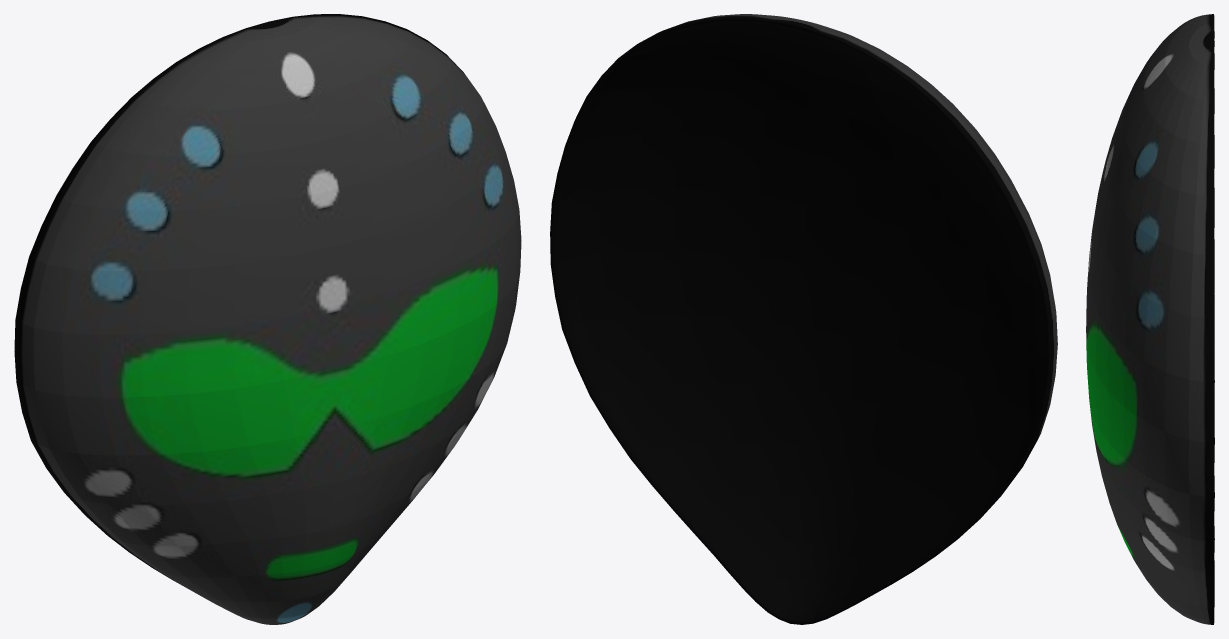
Rendered from mask.glb.
The picture shows the model from 3 angles, left to right: view 1: azimuth 30°, elevation 25°; view 2: azimuth 150°, elevation 25°; view 3: azimuth 270°, elevation 25°; orthographic projection. The views are drawn at different scales.
Visible parts, largest first — view 1: Sphere; view 2: Sphere; view 3: Sphere.
Part boxes in pixels (left/top/right/bottom): Sphere: left=14, top=14, right=521, bottom=624; Sphere: left=550, top=14, right=1057, bottom=624; Sphere: left=1086, top=14, right=1214, bottom=624.
Bounding box in the file's own units: 1.49 × 1.71 × 0.3453.
Materials: 1 (1 with a texture image).
